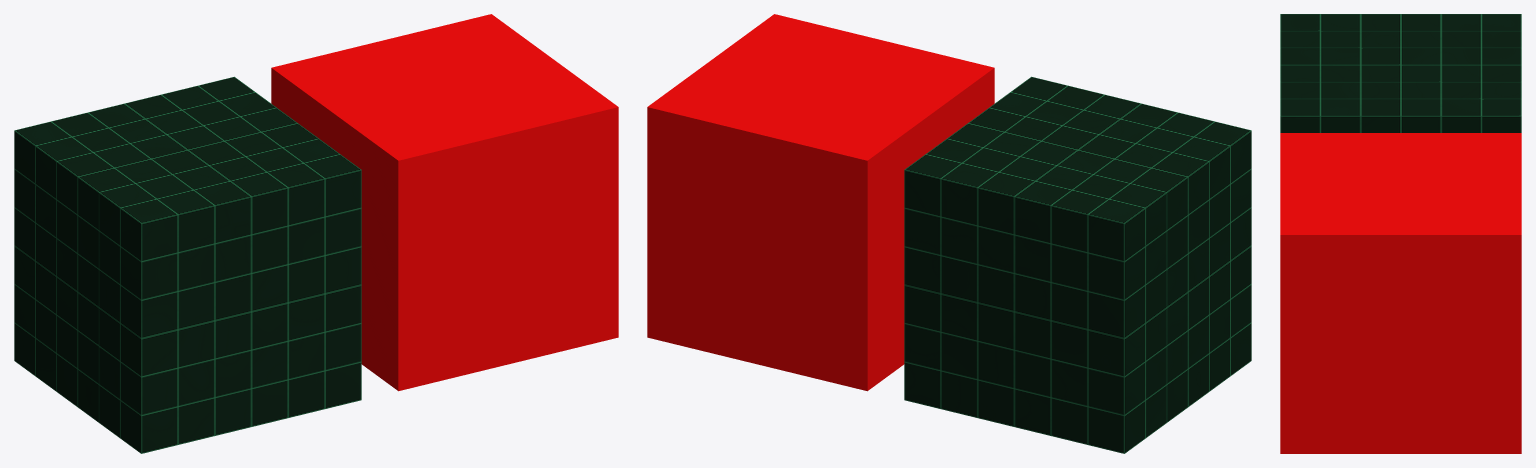
Rendered from fileName (1).glb.
3 renders of one model, left to right at view 1: azimuth 30°, elevation 25°; view 2: azimuth 150°, elevation 25°; view 3: azimuth 270°, elevation 25°, orthographic. The views are drawn at different scales.
Parts seen in each view (by area): view 1: objmeshes; view 2: objmeshes; view 3: objmeshes.
Part boxes in pixels (box(x1,y1,x2,y2)): objmeshes: box(14, 14, 618, 453); objmeshes: box(647, 14, 1251, 453); objmeshes: box(1280, 14, 1521, 453).
Size of the model in its own units: 4.33 by 2 by 2.
2 materials, 1 textured.
